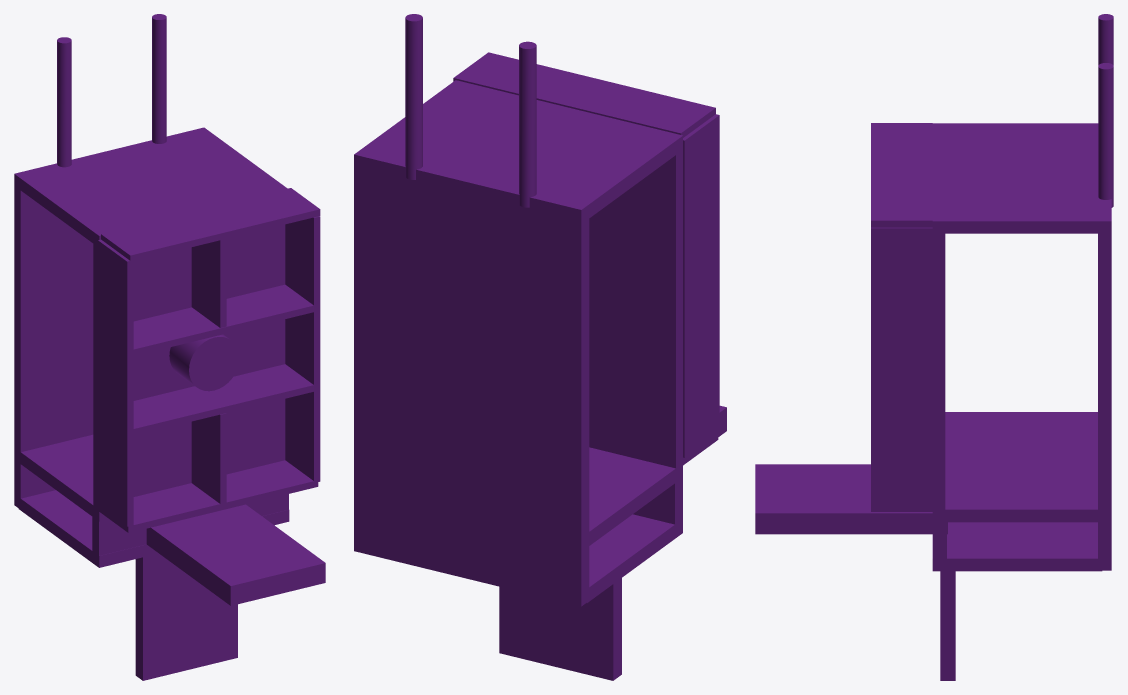
Rendered from body.obj.
3 views of the same model, side by side, from view 1: azimuth 30°, elevation 25°; view 2: azimuth 150°, elevation 25°; view 3: azimuth 270°, elevation 25° (orthographic). The views are drawn at different scales.
Bounding box in the file's own units: 0.305 × 0.88 × 0.465.
